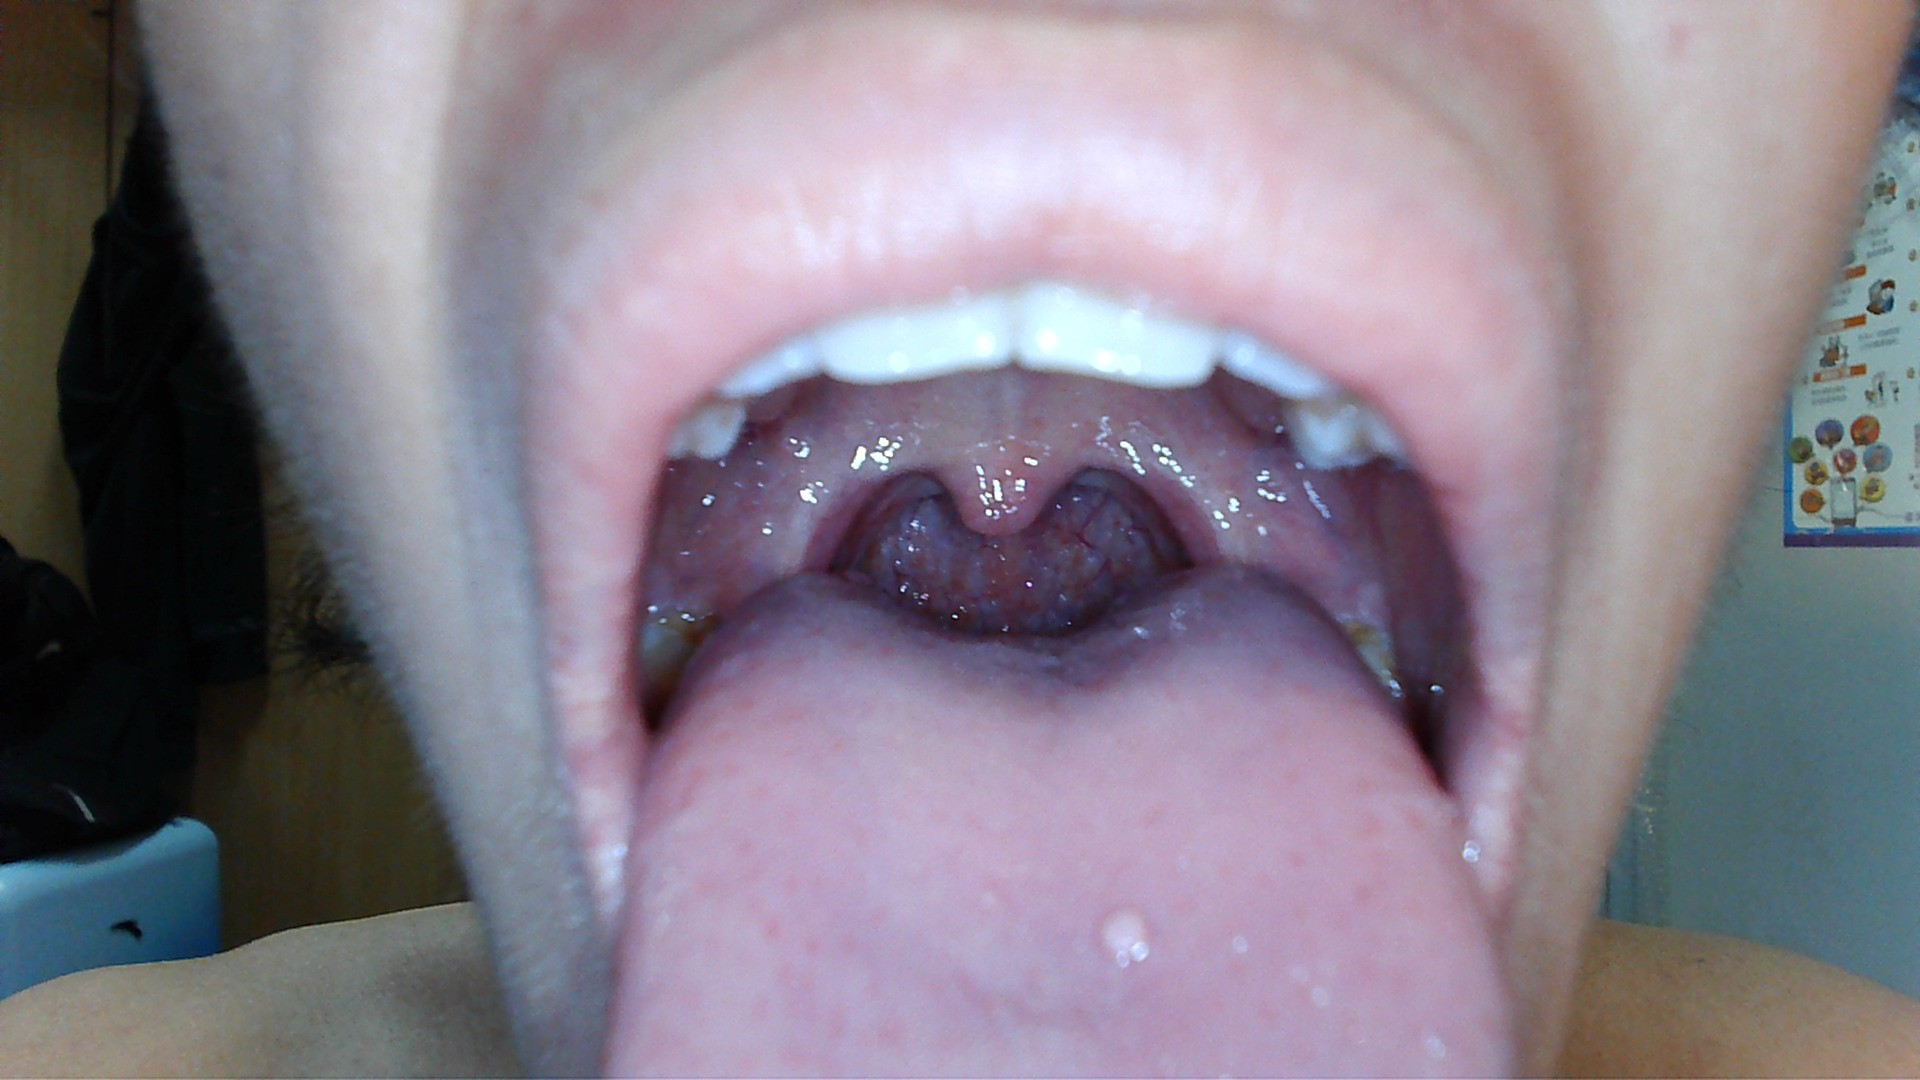throat: (1130, 419, 1226, 564), (790, 436, 894, 564)
